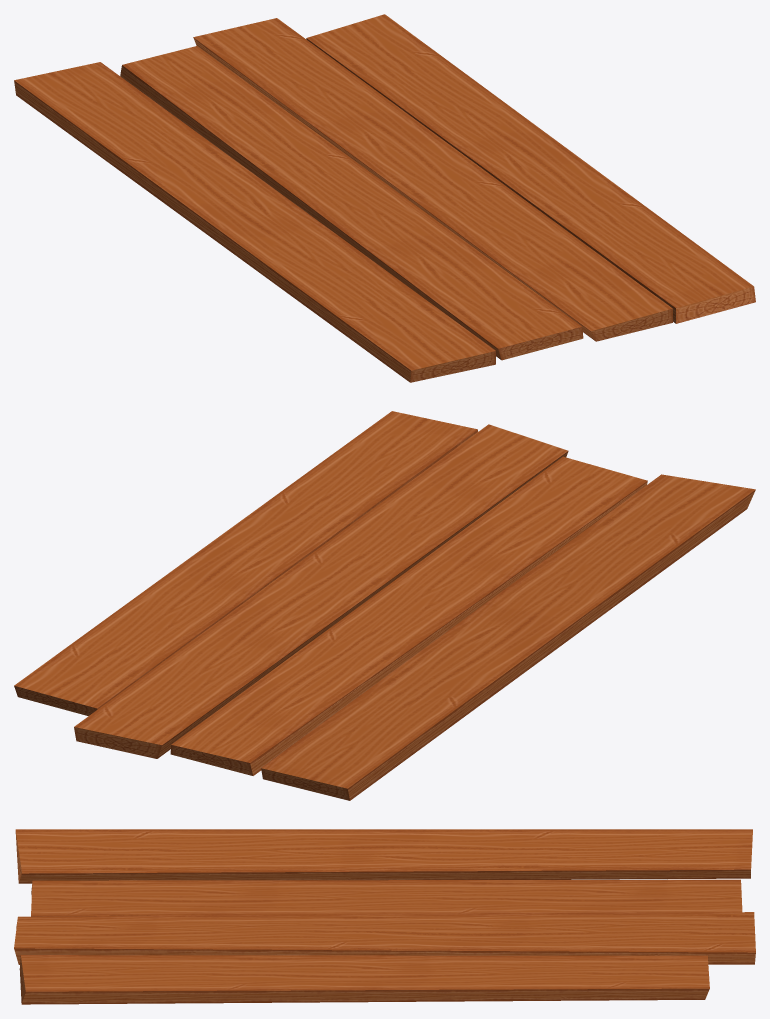
The model's file is planks_bridge.fbx.
The picture shows the model from 3 angles, top to bottom: view 1: azimuth 30°, elevation 25°; view 2: azimuth 150°, elevation 25°; view 3: azimuth 270°, elevation 25°; orthographic projection. The views are drawn at different scales.
Parts seen in each view (by area): view 1: Cube__6__Merged; view 2: Cube__6__Merged; view 3: Cube__6__Merged.
Part boxes in pixels (box(x1,y1,x2,y2)): Cube__6__Merged: box(14, 14, 755, 382); Cube__6__Merged: box(14, 411, 755, 800); Cube__6__Merged: box(14, 829, 755, 1004).
Bounding box in the file's own units: 436 × 24.27 × 865.
